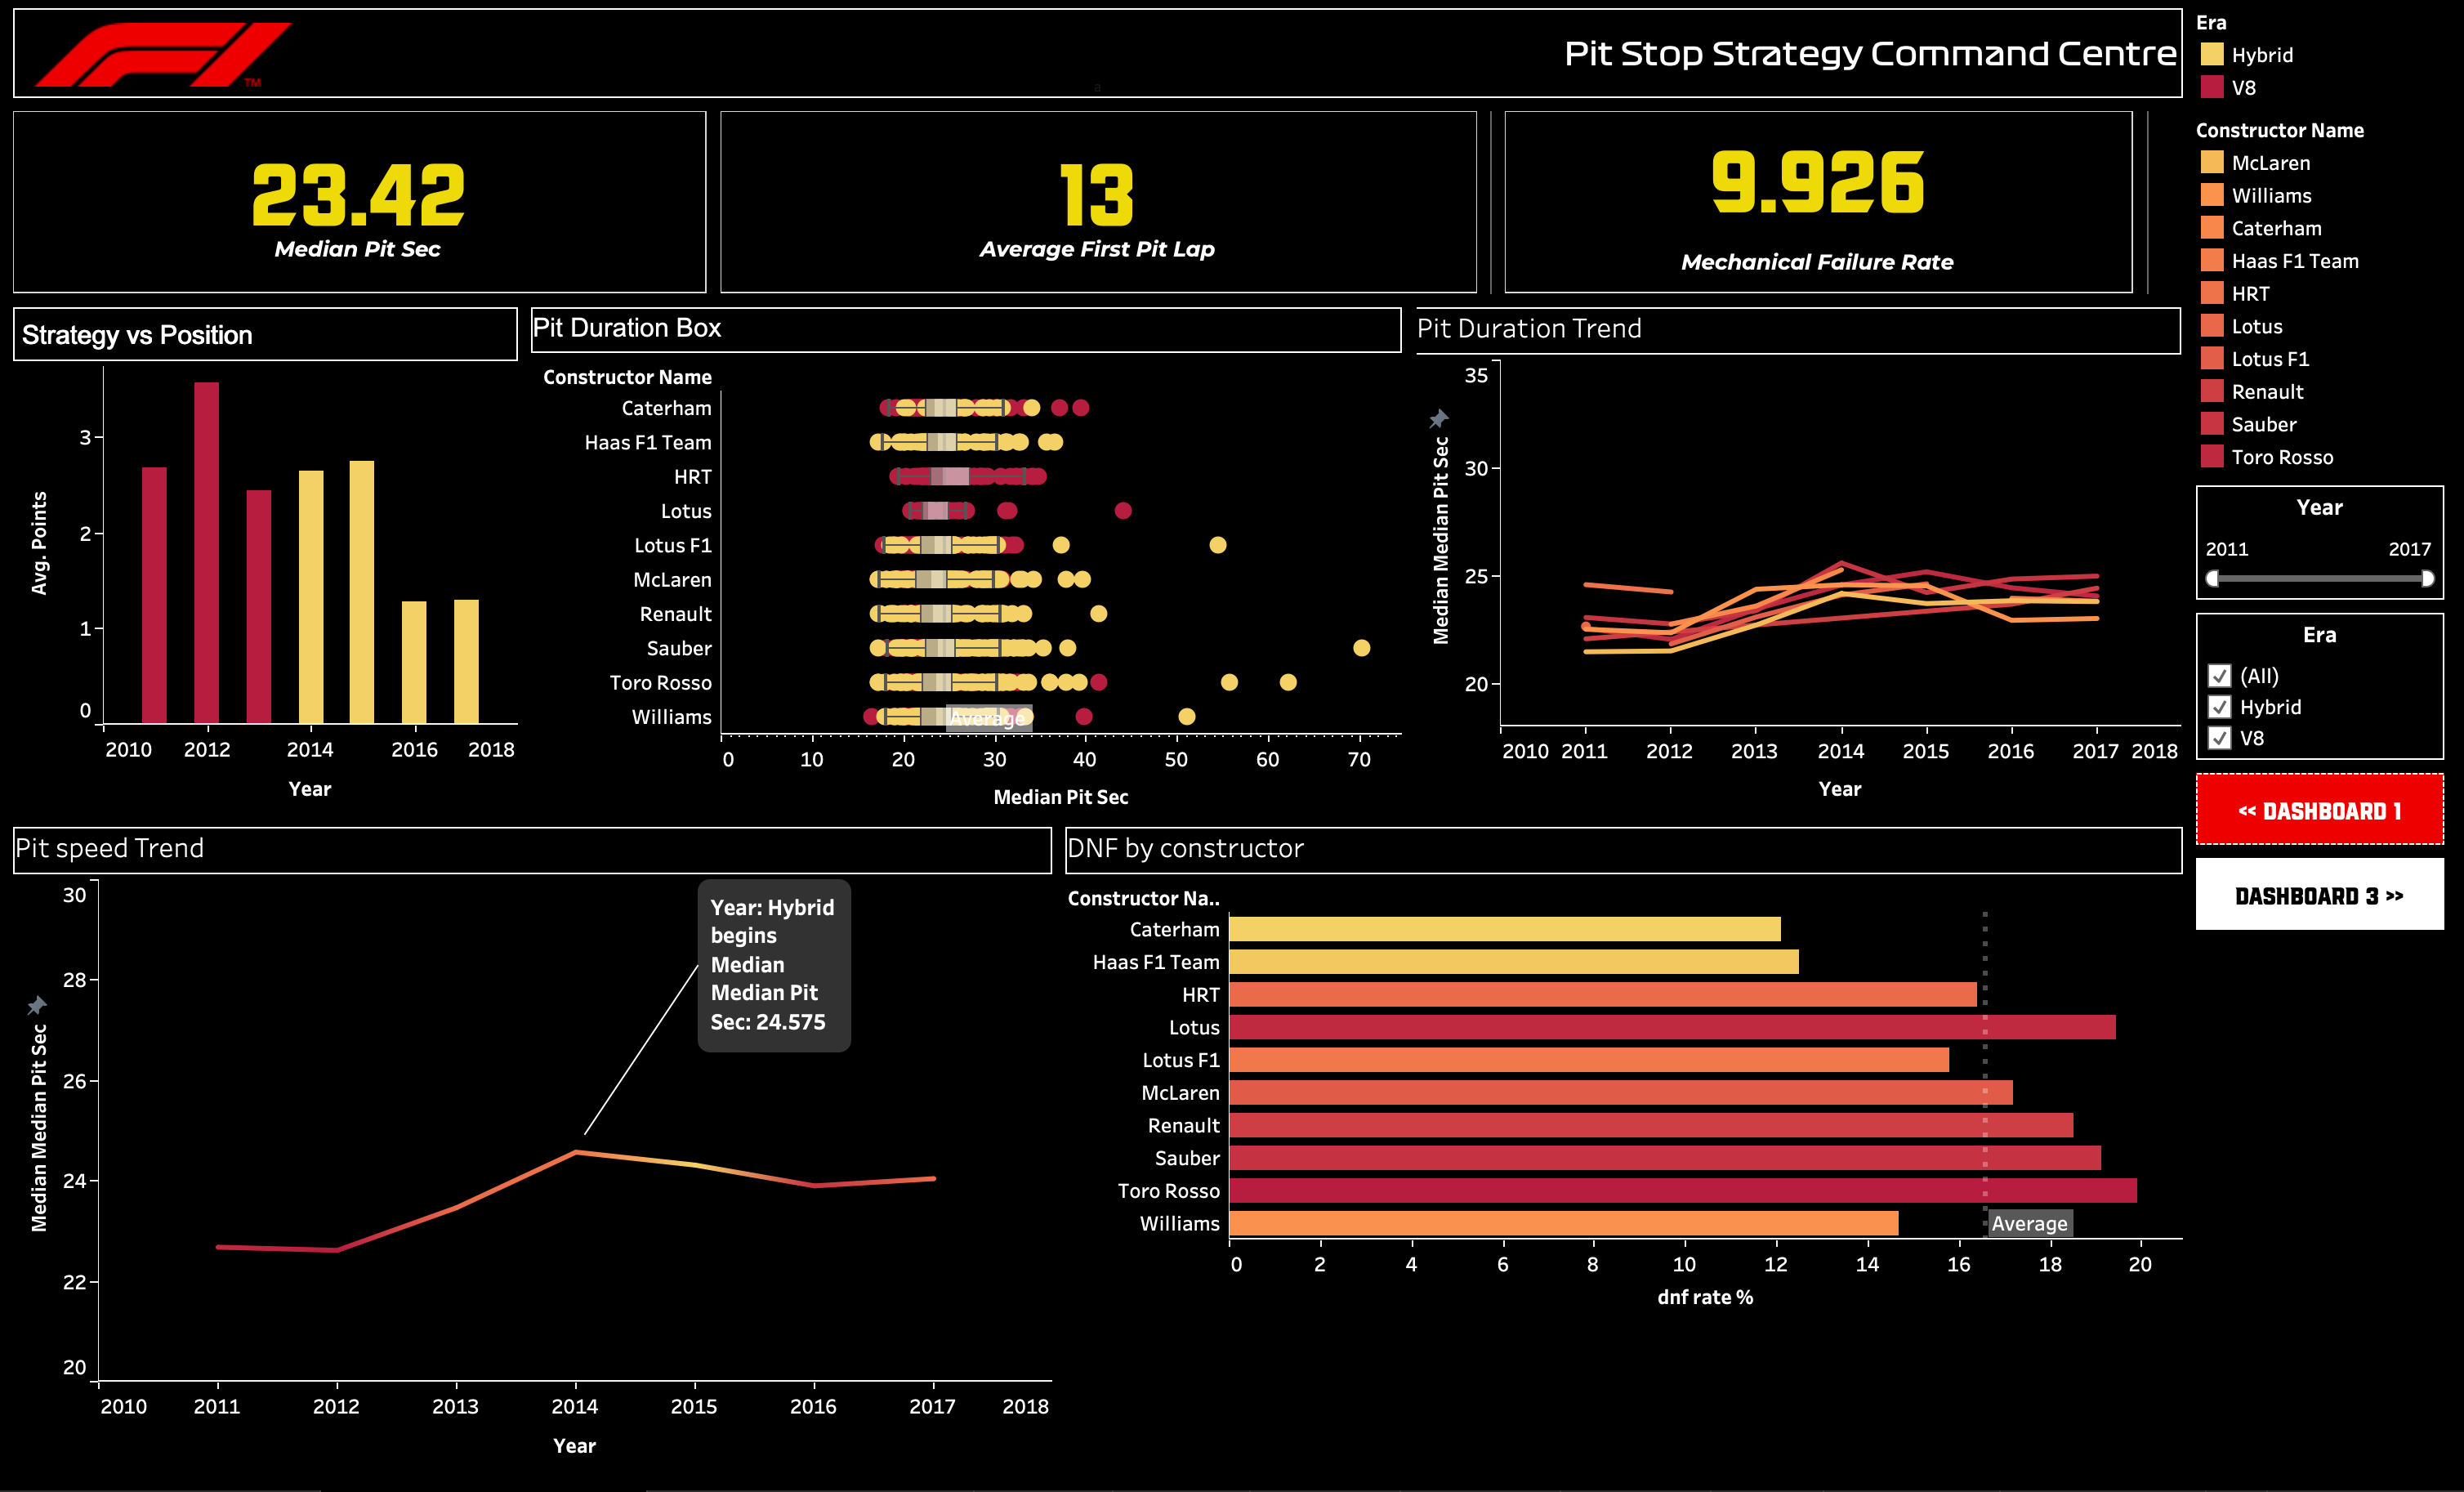

This screenshot's page, from the dashboard's own definition file:
{"tool":"tableau","page":{"name":"Dashboard 2- Pit Stop Strategy Command Centre ","canvas":[1000,1000],"units":"permille","ordinal":0},"visuals":[{"type":"image","param":"Image/FWONK_BIG.png","box":[13.8,1.2,109.9,86.9]},{"type":"title","box":[6.2,9.3,864.7,73.5]},{"type":"legend","title":"Strategy vs Position ","param":"[federated.1tumgub176gtpe12zgxsi1797wv3 (copy)].[none:era:nk]","box":[870.9,9.3,123,77]},{"type":"worksheet","title":"KPI - Pit Duration","mark":"Automatic","box":[6.2,82.8,280,140]},{"type":"worksheet","title":"KPI - Avg First Pit Lap","mark":"Automatic","box":[286.1,82.8,305.4,140]},{"type":"blank","box":[591.6,82.8,6.9,140]},{"type":"worksheet","title":" KPI - Mech DNF","mark":"Automatic","box":[598.5,82.8,265.5,140]},{"type":"blank","box":[864,82.8,6.9,140]},{"type":"legend","title":"Pit Duration Trend","param":"[federated.1tumgub176gtpe12zgxsi1797wv3 (copy)].[none:constructor_name:nk]","box":[870.9,86.3,123,263.7]},{"type":"worksheet","title":"Strategy vs Position ","mark":"Bar","rows":["points"],"cols":["year"],"box":[6.2,222.9,243.7,371.1]},{"type":"worksheet","title":"Pit Duration Box","mark":"Circle","rows":["constructor_name"],"cols":["median_pit_sec"],"box":[249.8,222.9,335.1,371.1]},{"type":"worksheet","title":"Pit Duration Trend","mark":"Automatic","rows":["median_pit_sec"],"cols":["year"],"box":[584.9,222.9,285.9,371.1]},{"type":"filter","title":"Pit Duration Trend","param":"[federated.1tumgub176gtpe12zgxsi1797wv3 (copy)].[none:year:qk]","box":[870.9,350.1,123,91]},{"type":"filter","title":"Pit Duration Box","param":"[federated.1tumgub176gtpe12zgxsi1797wv3 (copy)].[none:era:nk]","box":[870.9,441.1,123,114.4]},{"type":"dashboard-object","box":[870.9,555.4,123,60.7]},{"type":"worksheet","title":"Pit Speed Trend","mark":"Automatic","rows":["median_pit_sec"],"cols":["year"],"box":[6.2,593.9,413.9,396.8]},{"type":"worksheet","title":"DNF by Constructor","mark":"Automatic","rows":["constructor_name"],"cols":["Calculation_5450824697413636"],"box":[420.1,593.9,450.8,396.8]},{"type":"dashboard-object","box":[870.9,616.1,123,60.7]}]}

Visuals, with their boxes on the dashboard's canvas, which has no fixed pixel size, in thousandths of its width and height (x1, y1, x2, y2). These are canvas units, not pixel positions in the 2464x1492 screenshot, which may show the page scaled, cropped or inside an application window:
image: x1=14, y1=1, x2=124, y2=88
title: x1=6, y1=9, x2=871, y2=83
"Strategy vs Position " legend: x1=871, y1=9, x2=994, y2=86
"KPI - Pit Duration" worksheet: x1=6, y1=83, x2=286, y2=223
"KPI - Avg First Pit Lap" worksheet: x1=286, y1=83, x2=592, y2=223
blank: x1=592, y1=83, x2=598, y2=223
" KPI - Mech DNF" worksheet: x1=598, y1=83, x2=864, y2=223
blank: x1=864, y1=83, x2=871, y2=223
"Pit Duration Trend" legend: x1=871, y1=86, x2=994, y2=350
"Strategy vs Position " worksheet (Bar marks): x1=6, y1=223, x2=250, y2=594
"Pit Duration Box" worksheet (Circle marks): x1=250, y1=223, x2=585, y2=594
"Pit Duration Trend" worksheet: x1=585, y1=223, x2=871, y2=594
"Pit Duration Trend" filter: x1=871, y1=350, x2=994, y2=441
"Pit Duration Box" filter: x1=871, y1=441, x2=994, y2=556
dashboard-object: x1=871, y1=555, x2=994, y2=616
"Pit Speed Trend" worksheet: x1=6, y1=594, x2=420, y2=991
"DNF by Constructor" worksheet: x1=420, y1=594, x2=871, y2=991
dashboard-object: x1=871, y1=616, x2=994, y2=677
